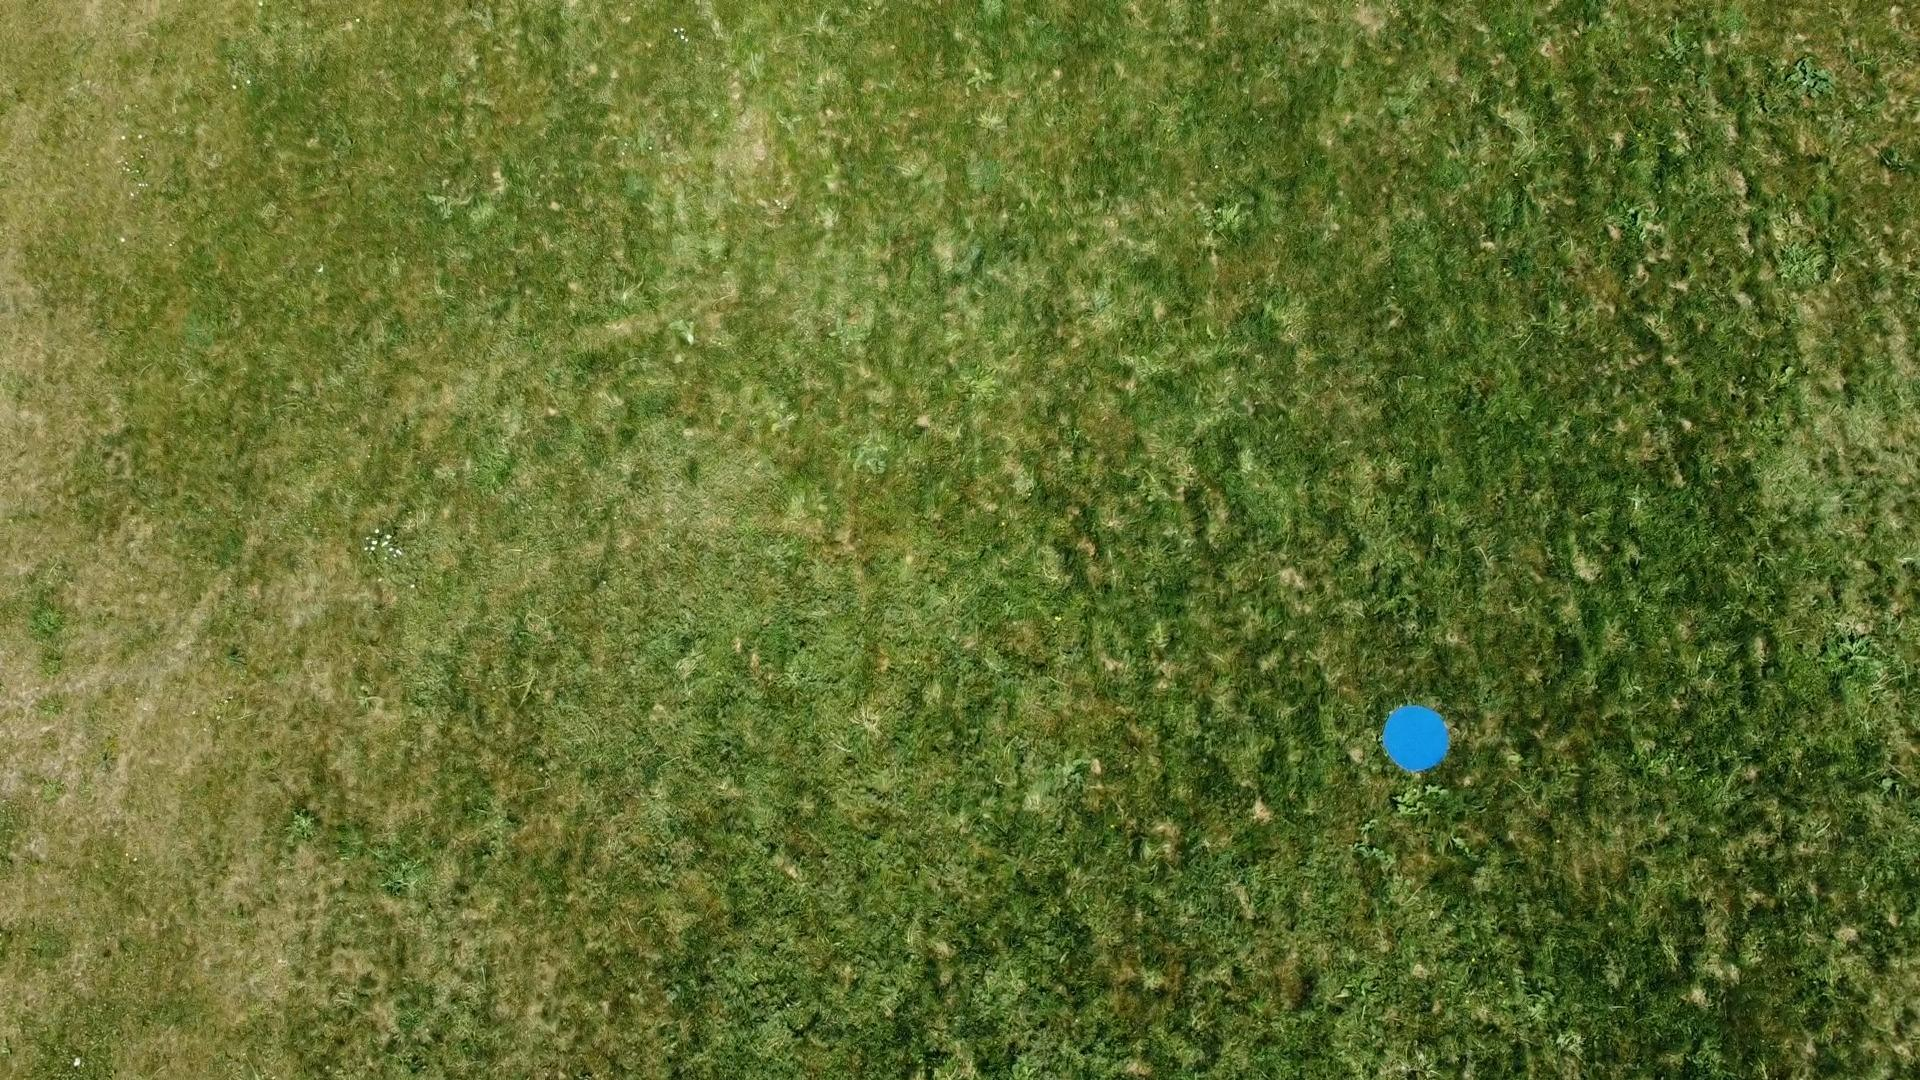Blue: (1378, 703, 1453, 773)
